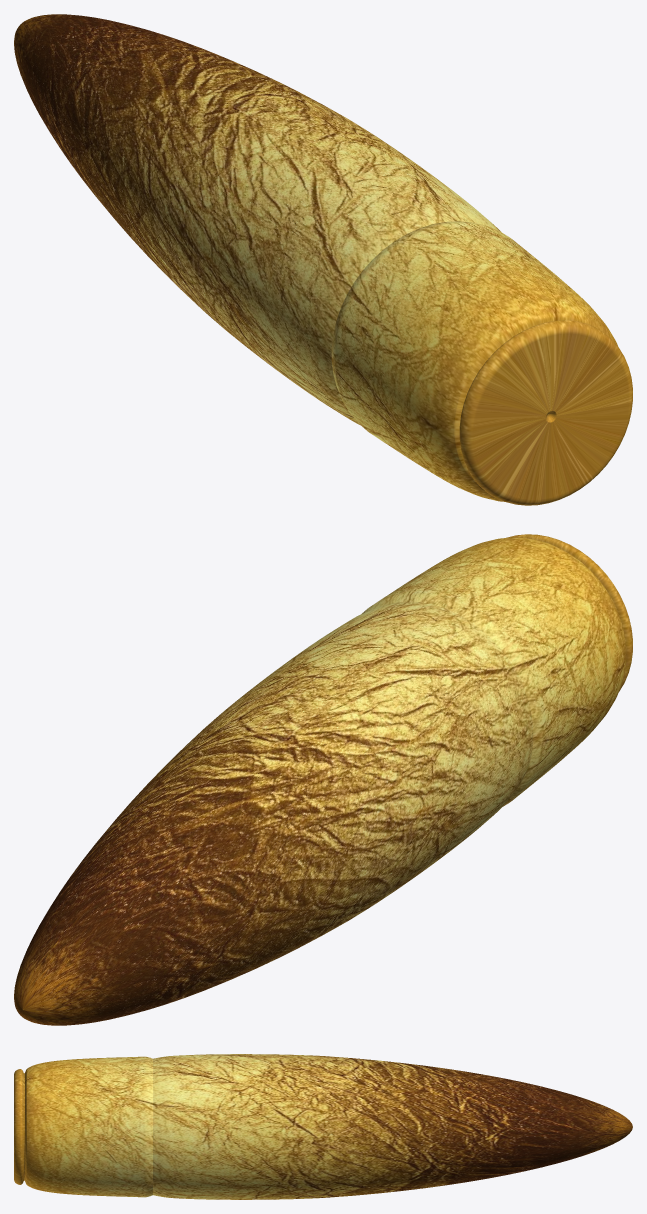
File: Projectile.FBX
3 views of the same model, one above another, from view 1: azimuth 30°, elevation 25°; view 2: azimuth 150°, elevation 25°; view 3: azimuth 270°, elevation 25° (orthographic). The views are drawn at different scales.
Visible parts, largest first — view 1: Projectile; view 2: Projectile; view 3: Projectile.
Part boxes in pixels (box(x1,y1,x2,y2)): Projectile: box(14, 14, 632, 505); Projectile: box(14, 534, 632, 1025); Projectile: box(14, 1054, 632, 1199).
Size of the model in its own units: 1.27 by 1.27 by 5.4.
Materials: 1 (1 with a texture image).
